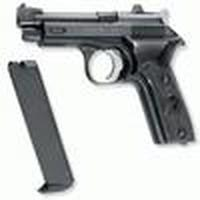gun: (17, 4, 198, 156)
